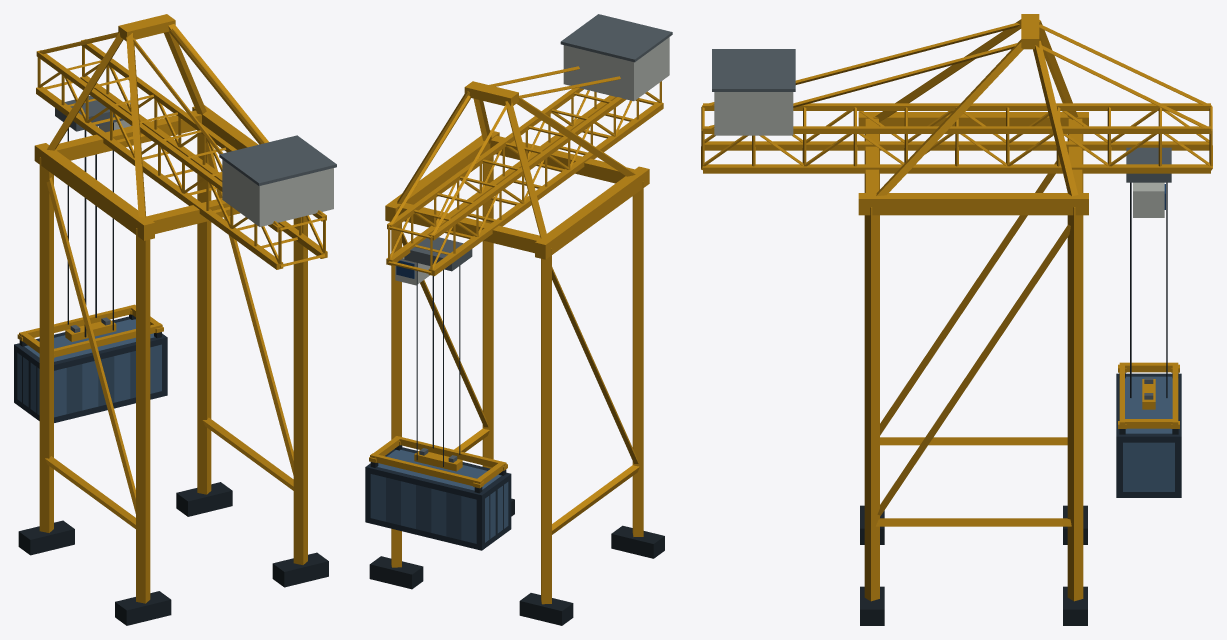
Rendered from quay-crane.glb.
The picture shows the model from 3 angles, left to right: view 1: azimuth 30°, elevation 25°; view 2: azimuth 150°, elevation 25°; view 3: azimuth 270°, elevation 25°; orthographic projection. The views are drawn at different scales.
Parts seen in each view (by area): view 1: quay-crane; view 2: quay-crane; view 3: quay-crane.
Part boxes in pixels (box(x1,y1,x2,y2)): quay-crane: box(14, 14, 336, 625); quay-crane: box(365, 14, 672, 625); quay-crane: box(701, 14, 1212, 625).
Bounding box in the file's own units: 21.8 × 53.5 × 45.33.
